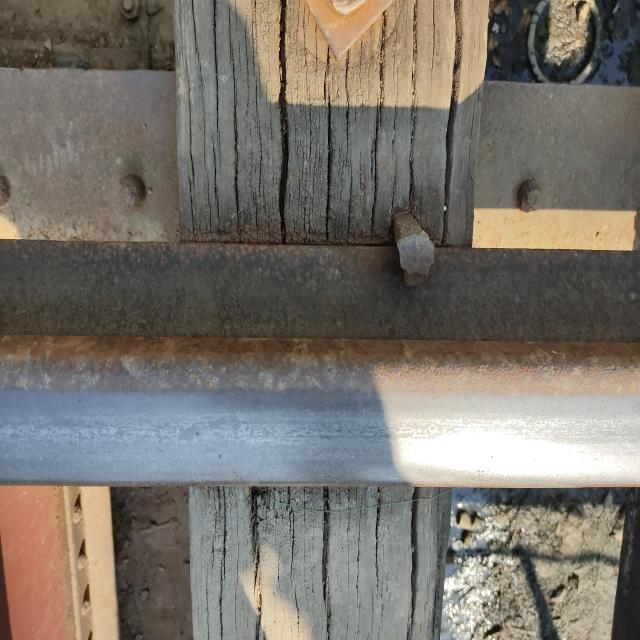broken_rail_medium: (216, 451, 225, 459)
